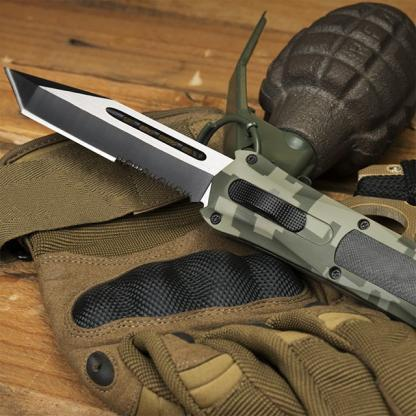Grenade: (197, 3, 416, 186)
Knife: (5, 67, 416, 329)
